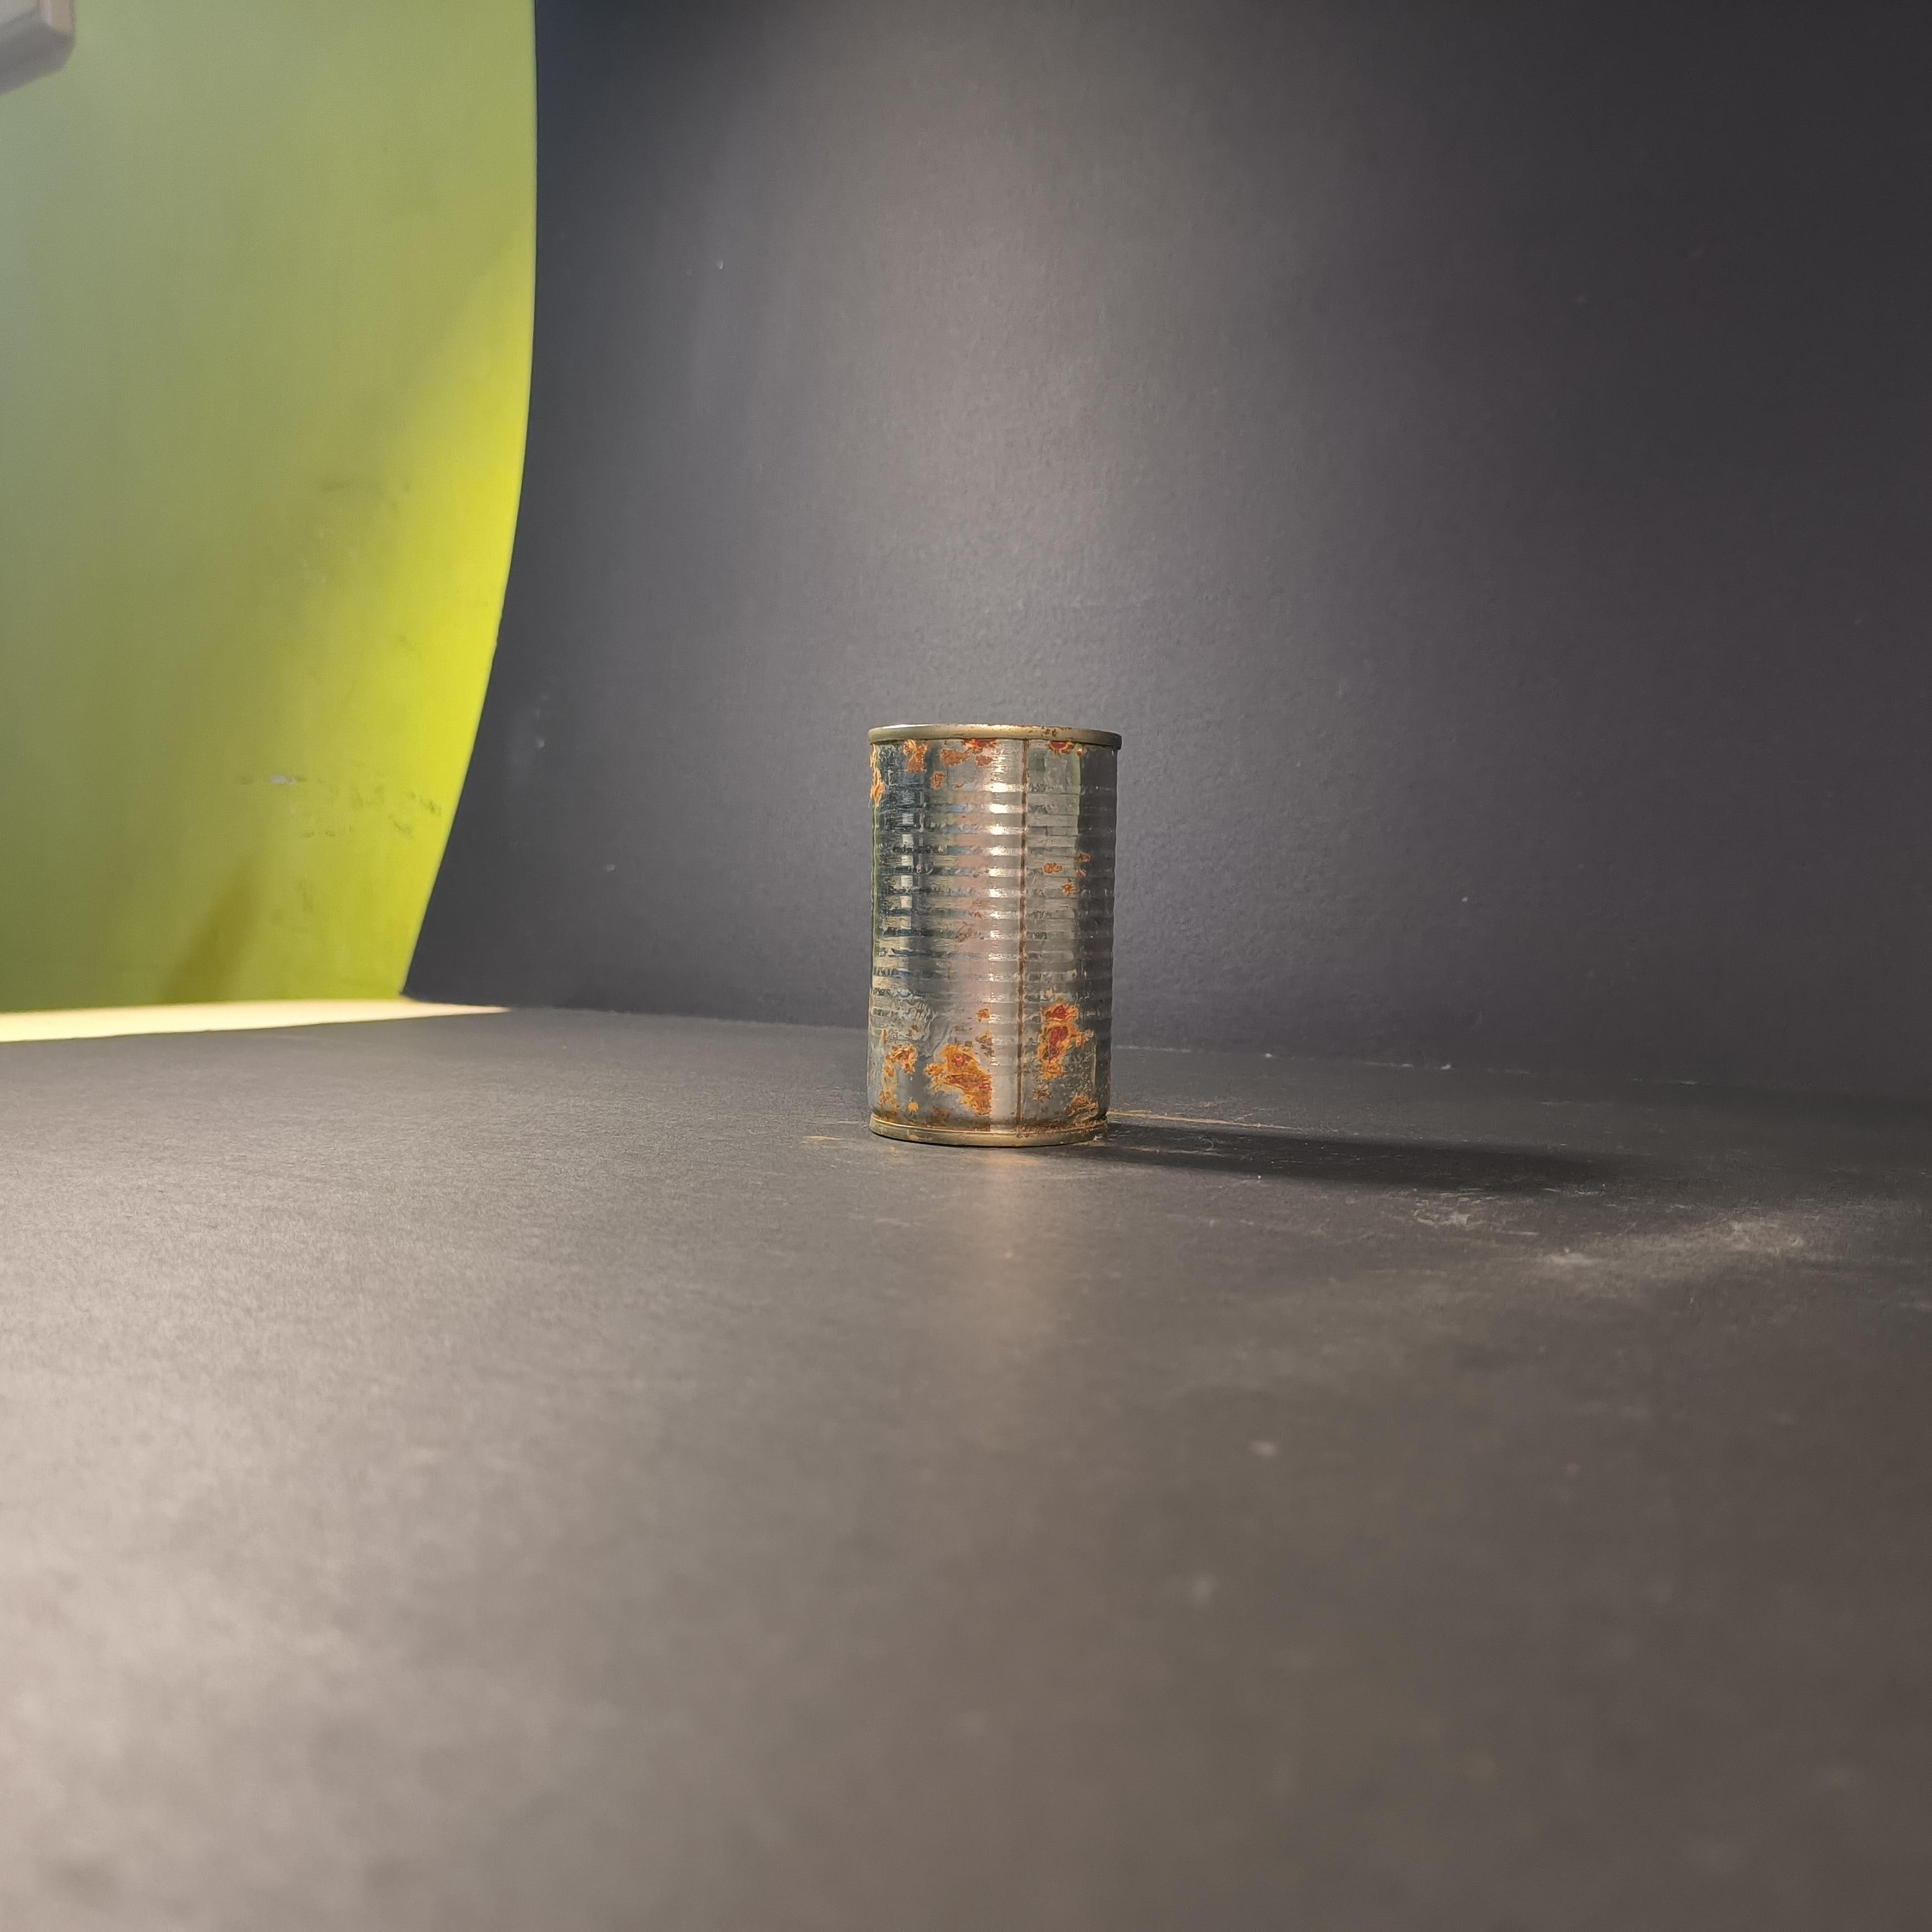Rusted: (846, 701, 1143, 1162)
